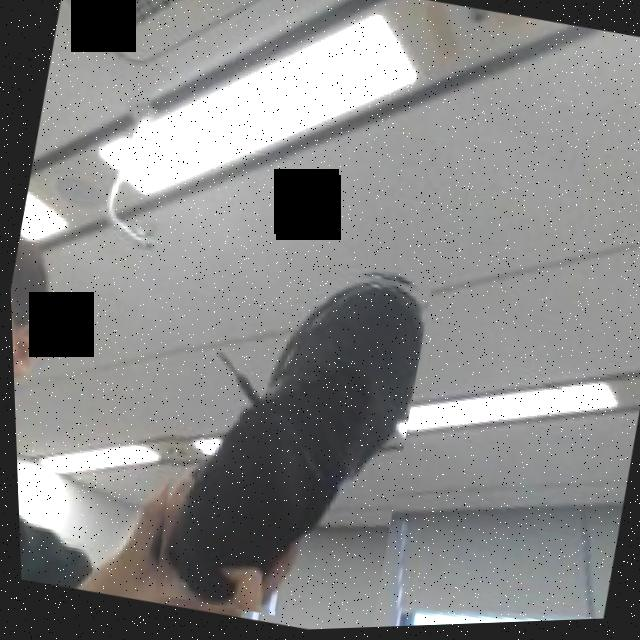shoe: (123, 232, 441, 637)
